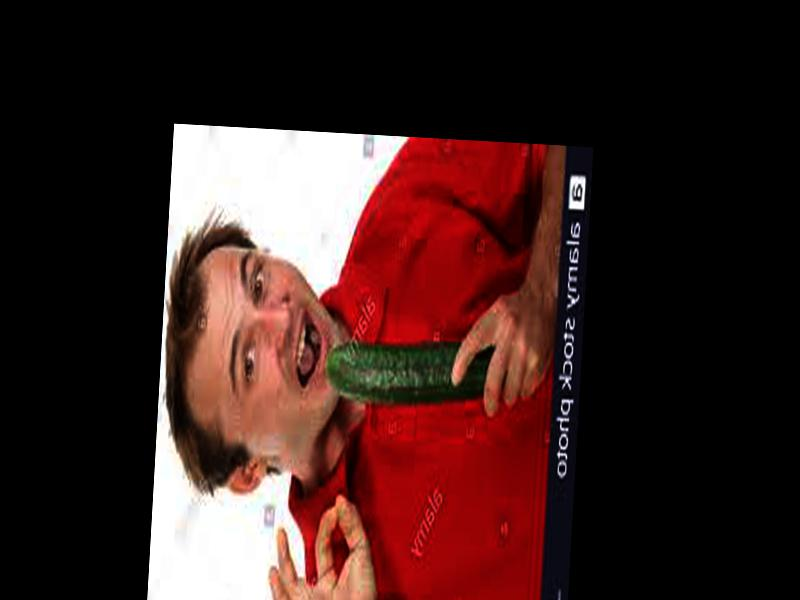Cucumber: (326, 341, 490, 401)
